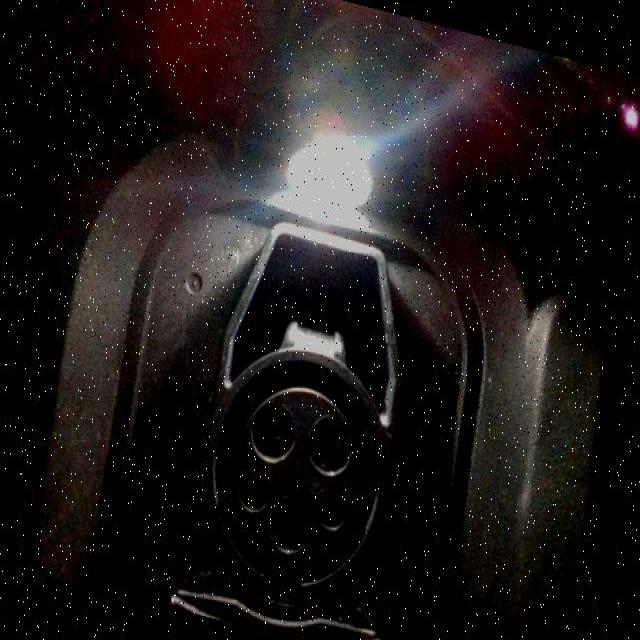Type 1: (220, 359, 379, 586)
